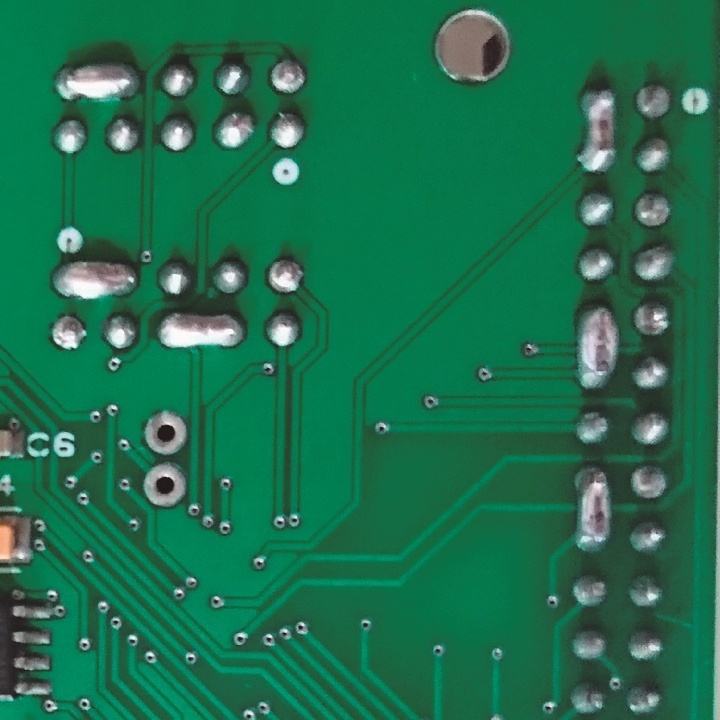F: (142, 460, 192, 514), (142, 409, 189, 459), (630, 187, 673, 232), (632, 298, 675, 343), (47, 313, 90, 355), (267, 57, 308, 98), (631, 463, 669, 507), (263, 258, 305, 297), (633, 81, 672, 123)
P: (53, 60, 141, 106), (155, 306, 242, 352), (577, 80, 619, 175), (49, 257, 139, 300), (576, 303, 618, 395), (574, 466, 616, 558)
